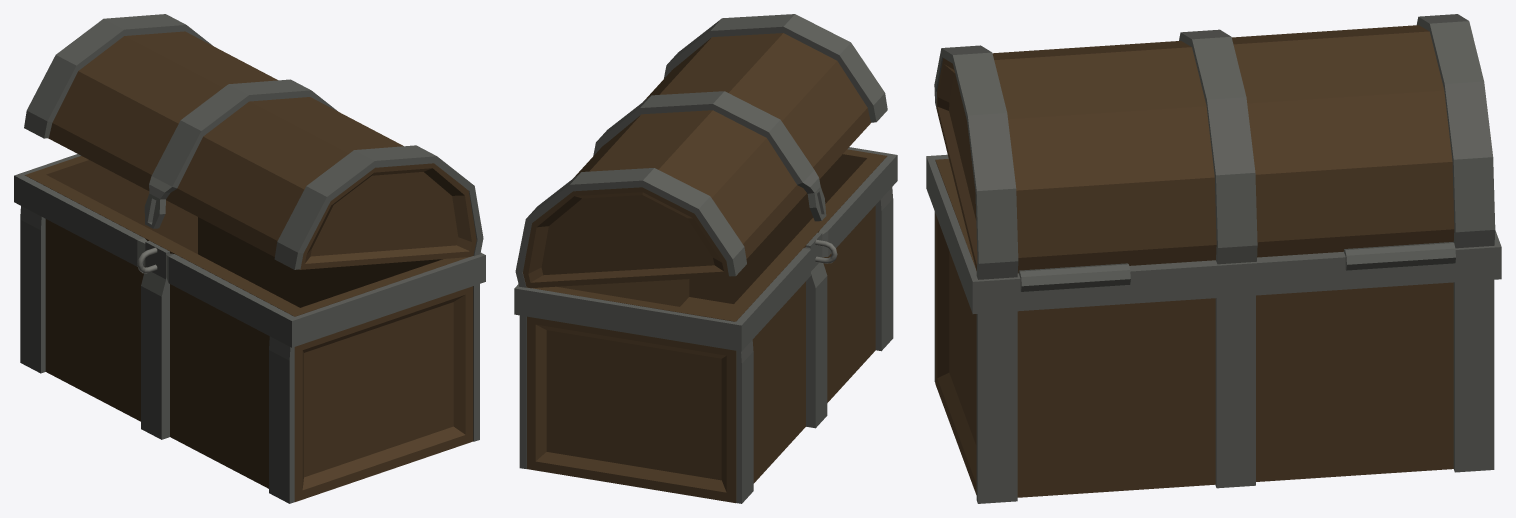
File: LowPolyDungeonChest.glb
3 views of the same model, side by side, from view 1: azimuth 30°, elevation 25°; view 2: azimuth 150°, elevation 25°; view 3: azimuth 270°, elevation 25° (orthographic). The views are drawn at different scales.
Visible parts, largest first — view 1: Chest.001, Chest_Lid.001; view 2: Chest.001, Chest_Lid.001; view 3: Chest.001, Chest_Lid.001.
Part boxes in pixels (x1,y1,x2,y2): Chest.001: [14, 154, 485, 503]; Chest_Lid.001: [24, 14, 483, 269]; Chest.001: [514, 147, 897, 503]; Chest_Lid.001: [515, 14, 887, 288]; Chest.001: [926, 154, 1501, 503]; Chest_Lid.001: [934, 14, 1495, 279].
Bounding box in the file's own units: 0.6969 × 0.771 × 1.05.
Materials: 3 (3 with a texture image).
